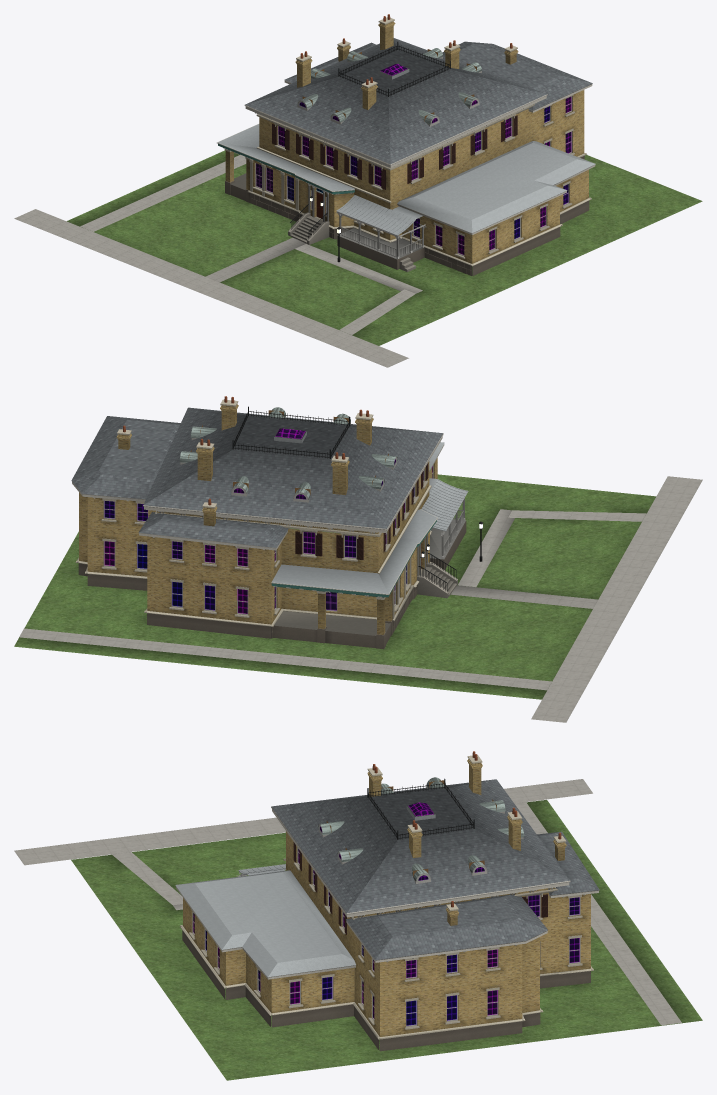
Rendered from cumberland-house.glb.
3 renders of one model, top to bottom at view 1: azimuth 30°, elevation 25°; view 2: azimuth 150°, elevation 25°; view 3: azimuth 270°, elevation 25°, orthographic. The views are drawn at different scales.
Parts seen in each view (by area): view 1: CumberlandHouse_Lawn, CumberlandHouse_Trim, CumberlandHouse_Roof, CumberlandHouse_Walls, CumberlandHouse_Paving, CumberlandHouse_Glass; view 2: CumberlandHouse_Lawn, CumberlandHouse_Roof, CumberlandHouse_Trim, CumberlandHouse_Walls, CumberlandHouse_Paving, CumberlandHouse_Glass; view 3: CumberlandHouse_Lawn, CumberlandHouse_Roof, CumberlandHouse_Trim, CumberlandHouse_Walls, CumberlandHouse_Paving, CumberlandHouse_Glass.
Boxes of the visible parts, bbox=[...] form: CumberlandHouse_Lawn: bbox=[67, 150, 702, 345]; CumberlandHouse_Trim: bbox=[217, 14, 595, 275]; CumberlandHouse_Roof: bbox=[245, 38, 592, 164]; CumberlandHouse_Walls: bbox=[225, 21, 588, 263]; CumberlandHouse_Paving: bbox=[14, 154, 422, 367]; CumberlandHouse_Glass: bbox=[256, 64, 571, 254]; CumberlandHouse_Lawn: bbox=[14, 474, 656, 699]; CumberlandHouse_Roof: bbox=[71, 407, 443, 547]; CumberlandHouse_Trim: bbox=[72, 396, 483, 649]; CumberlandHouse_Walls: bbox=[79, 404, 437, 634]; CumberlandHouse_Paving: bbox=[19, 476, 702, 722]; CumberlandHouse_Glass: bbox=[104, 428, 432, 613]; CumberlandHouse_Lawn: bbox=[71, 800, 702, 1080]; CumberlandHouse_Roof: bbox=[271, 779, 599, 960]; CumberlandHouse_Trim: bbox=[175, 751, 598, 1051]; CumberlandHouse_Walls: bbox=[183, 759, 590, 1036]; CumberlandHouse_Paving: bbox=[14, 779, 681, 1025]; CumberlandHouse_Glass: bbox=[193, 802, 579, 1025].
Bounding box in the file's own units: 58.87 × 14.9 × 56.85.
8 materials, 6 textured.
